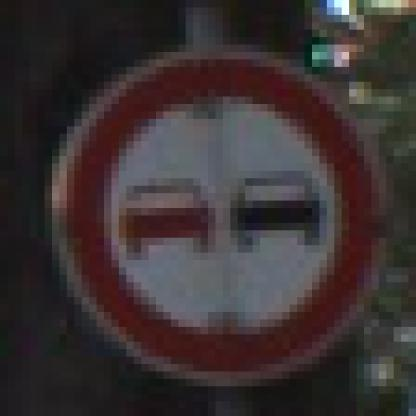No Overtaking: (45, 38, 380, 380)
